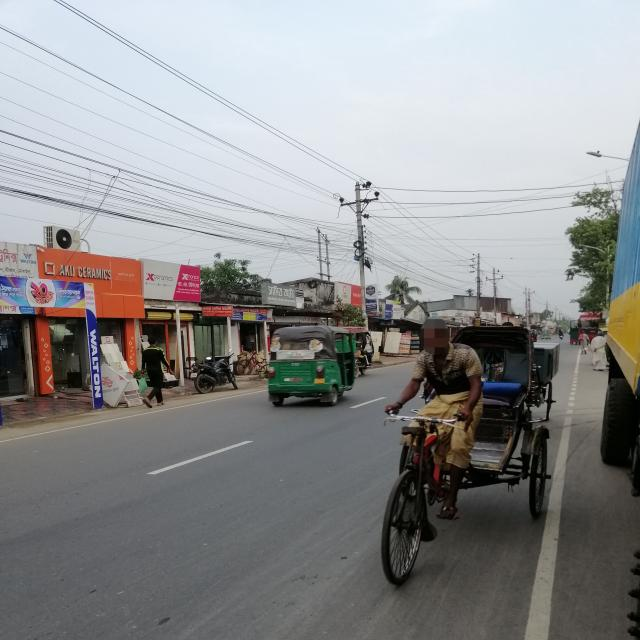CNG: (266, 314, 361, 419)
Rickshaw: (343, 305, 558, 601)
